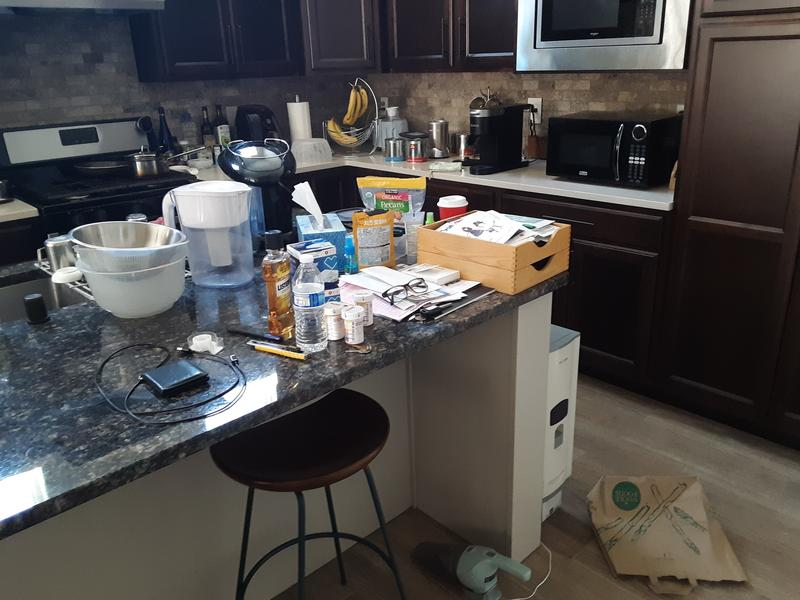glasses: (380, 277, 430, 305)
